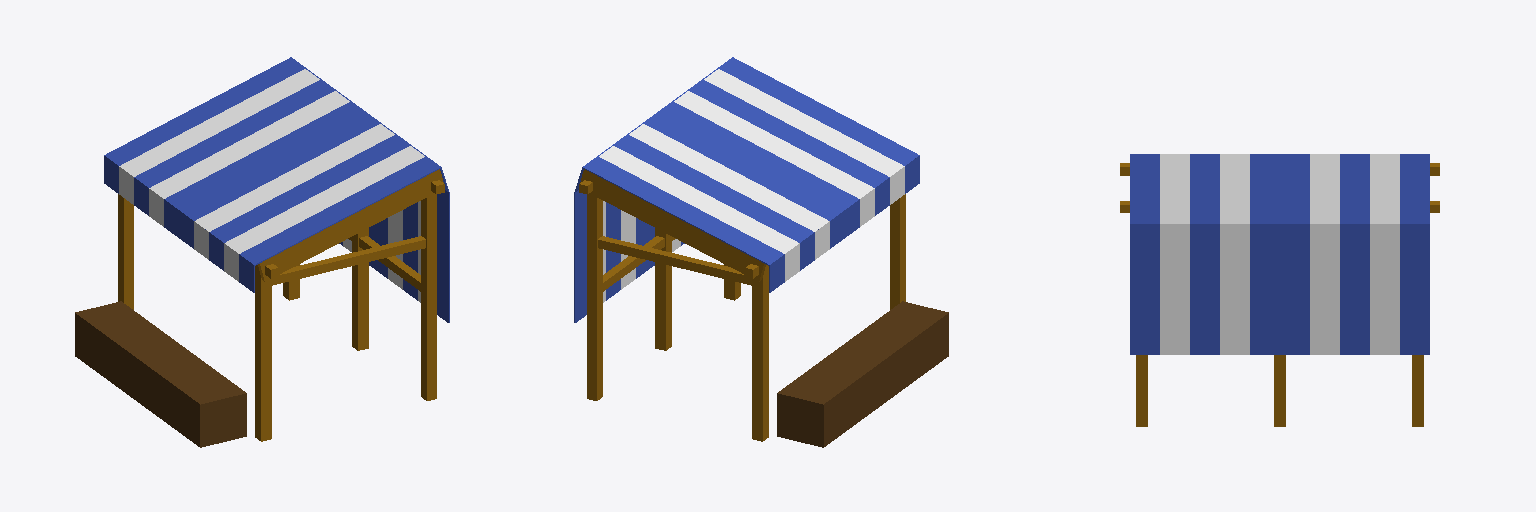
3 views of the same model, side by side, from view 1: azimuth 30°, elevation 25°; view 2: azimuth 150°, elevation 25°; view 3: azimuth 270°, elevation 25° (orthographic).
Parts seen in each view (by area): view 1: top, cube, back, front, side; view 2: top, cube, back, front, side; view 3: back, top.
Part boxes in pixels (left/top/right/bottom): top: left=104, top=58, right=443, bottom=281; cube: left=75, top=301, right=246, bottom=447; back: left=283, top=57, right=449, bottom=400; front: left=104, top=156, right=278, bottom=441; side: left=272, top=236, right=425, bottom=285; top: left=580, top=58, right=919, bottom=281; cube: left=777, top=301, right=948, bottom=447; back: left=574, top=57, right=740, bottom=400; front: left=745, top=156, right=919, bottom=441; side: left=598, top=236, right=751, bottom=285; back: left=1120, top=193, right=1439, bottom=426; top: left=1130, top=154, right=1429, bottom=192.
Bounding box in the file's own units: 2.86 × 2.7 × 3.35.
Materials: 3 (3 with a texture image).